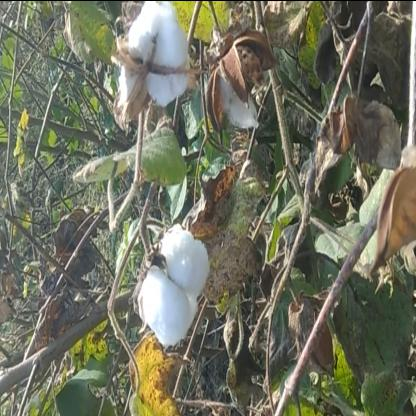cotton_ready: (105, 0, 201, 140), (146, 215, 216, 362)
